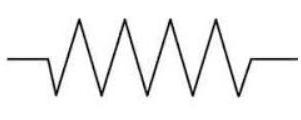resistor: (35, 10, 265, 103)
